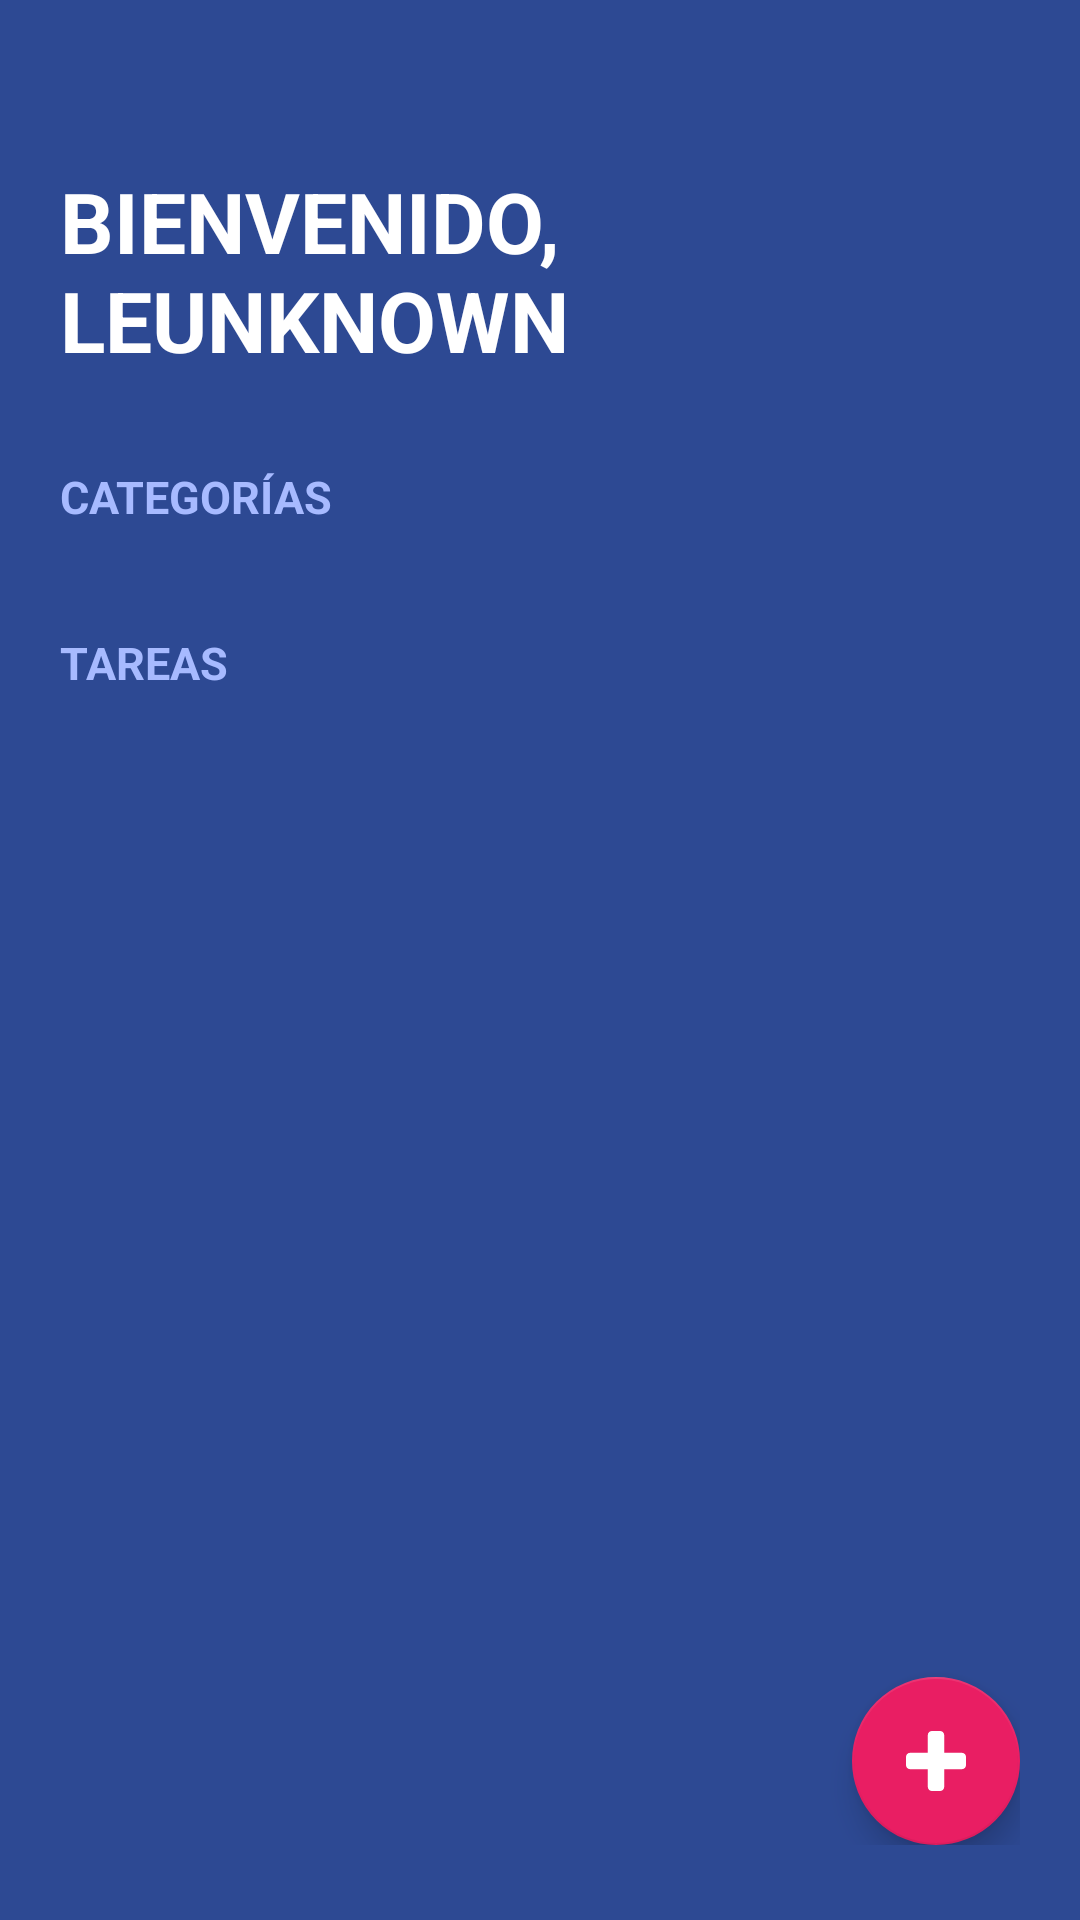

Locate icon controls on the screen. Image size 1080x1920, boxes as (x1, y1, x2, y2).
plus: (852, 1677, 1020, 1845)
